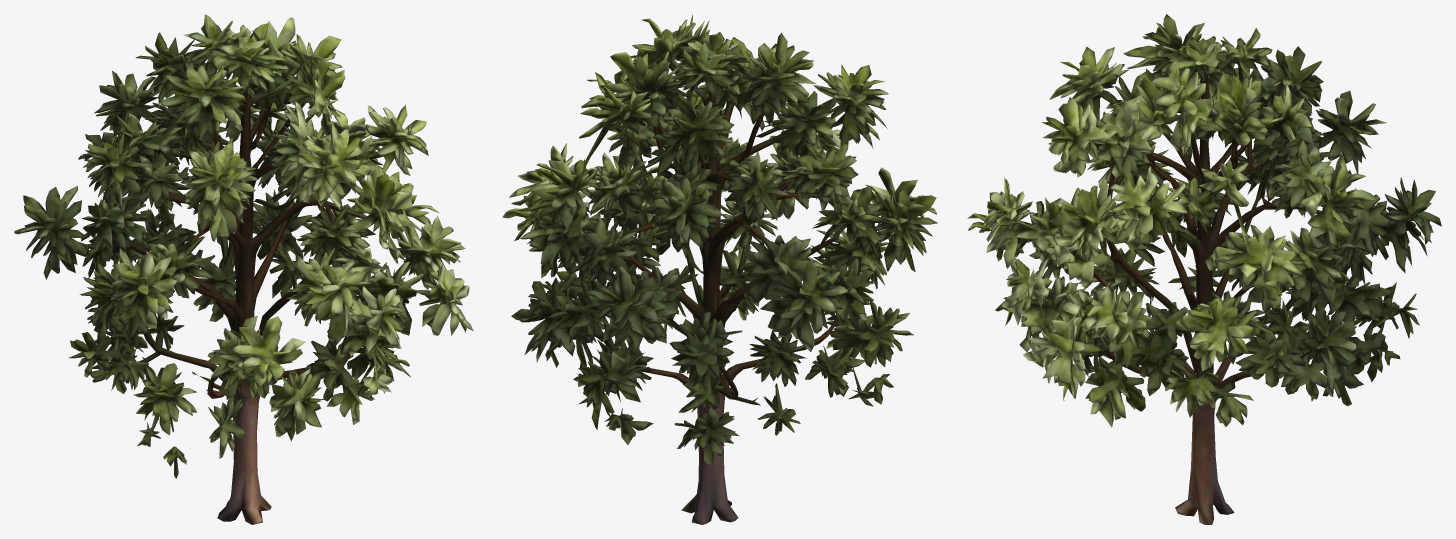
Rendered from tree.glb.
The picture shows the model from 3 angles, left to right: view 1: azimuth 30°, elevation 25°; view 2: azimuth 150°, elevation 25°; view 3: azimuth 270°, elevation 25°; orthographic projection.
Parts seen in each view (by area): view 1: tripo_node_f9b1836d-4a04-4540-958a-265e4fa9bd77; view 2: tripo_node_f9b1836d-4a04-4540-958a-265e4fa9bd77; view 3: tripo_node_f9b1836d-4a04-4540-958a-265e4fa9bd77.
Part boxes in pixels (bbox=[...]): tripo_node_f9b1836d-4a04-4540-958a-265e4fa9bd77: bbox=[14, 14, 473, 524]; tripo_node_f9b1836d-4a04-4540-958a-265e4fa9bd77: bbox=[502, 14, 937, 524]; tripo_node_f9b1836d-4a04-4540-958a-265e4fa9bd77: bbox=[967, 14, 1441, 524].
Size of the model in its own units: 0.7938 by 0.9976 by 0.8962.
Materials: 1 (1 with a texture image).
